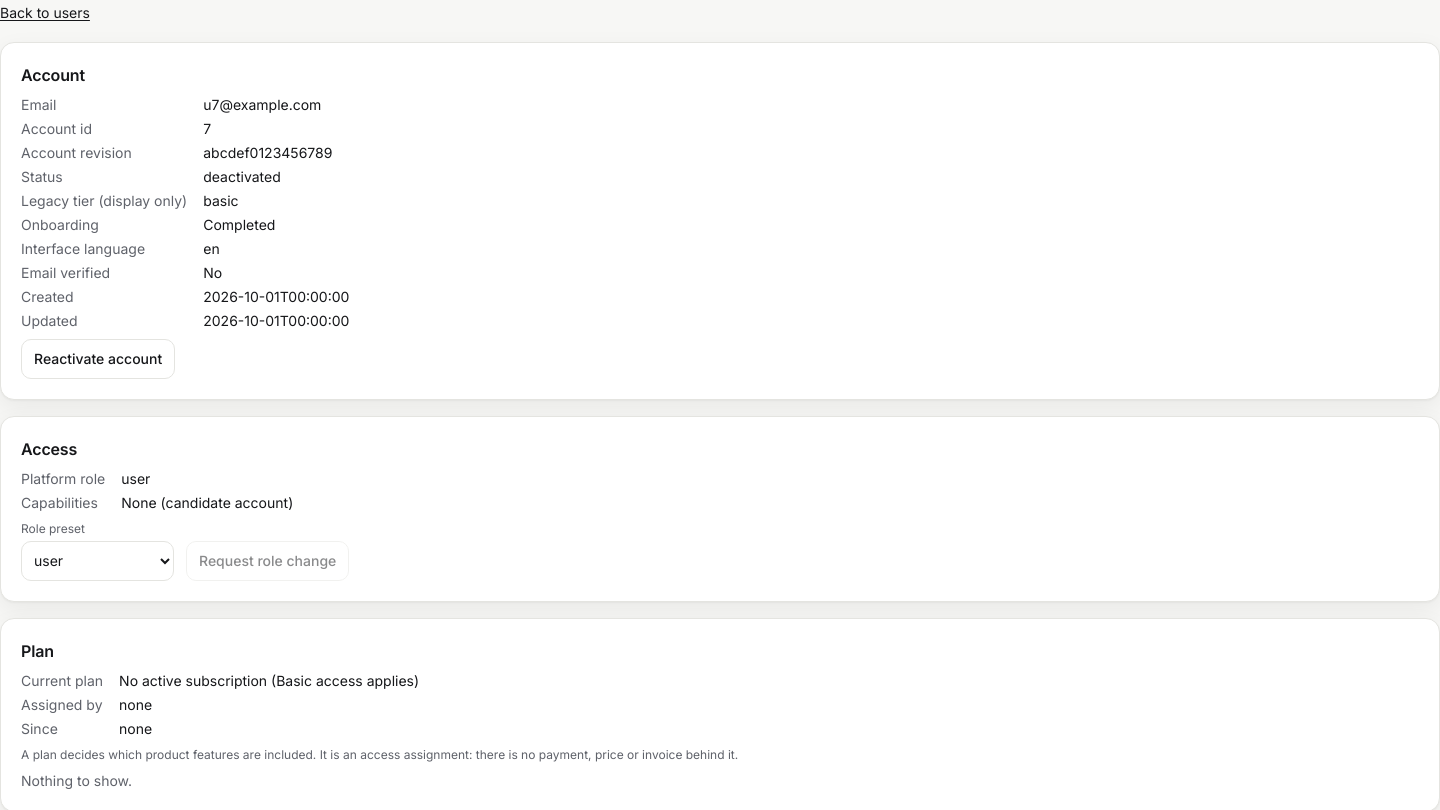
Test case: User detail › an inactive account offers reactivation and says old sessions are not restored
Click the button "Reactivate account": (98, 359) [21,339,175,379]
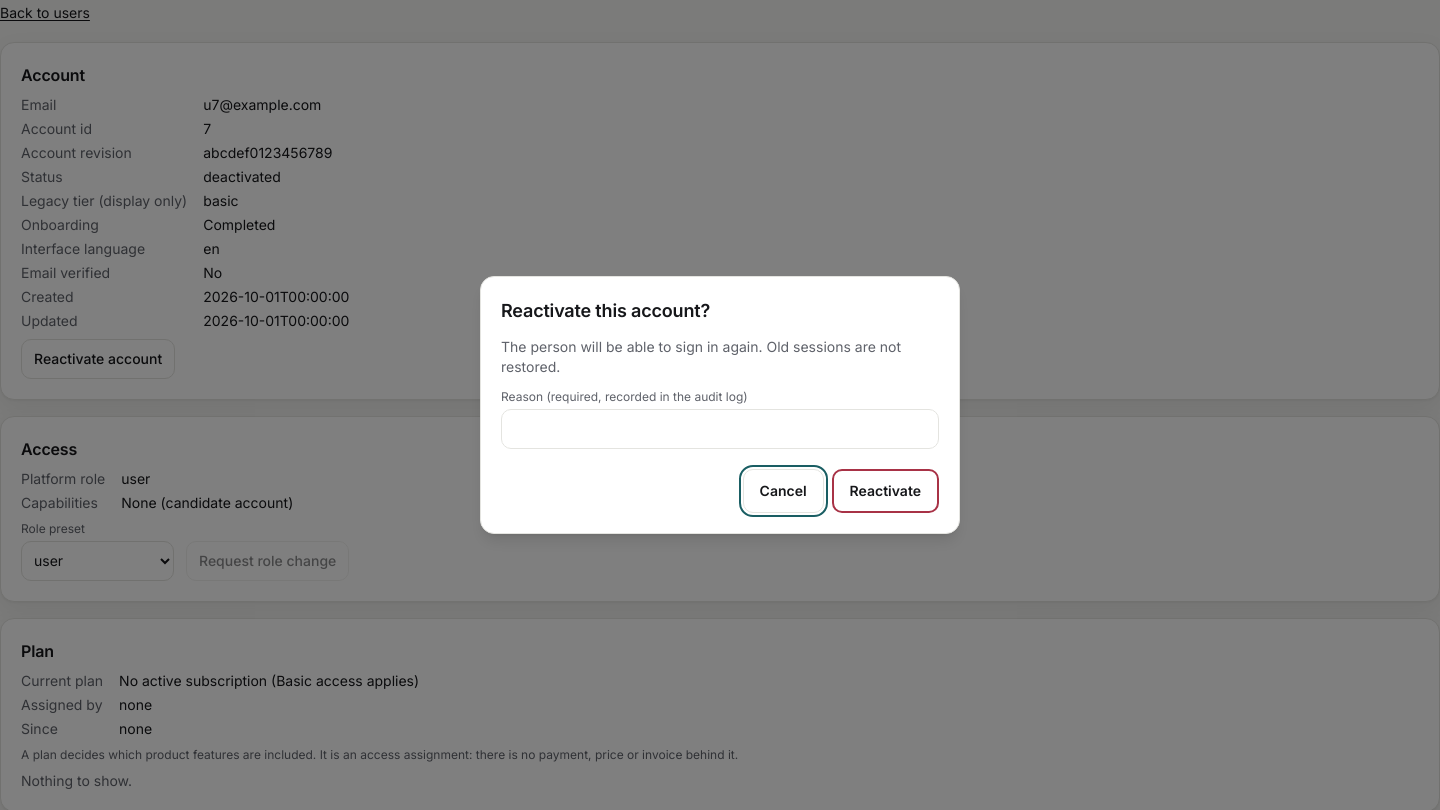
Result: the text "Old sessions are not restored" is shown at [501,338,901,375]
